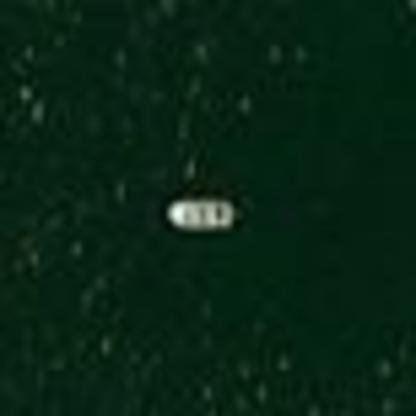ship: (158, 187, 248, 240)
